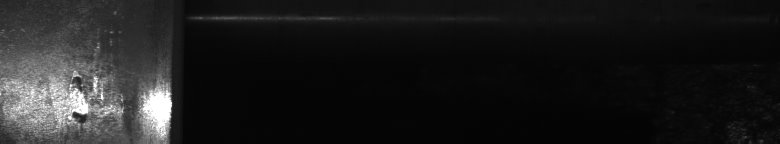kb: (4, 11, 158, 136)
